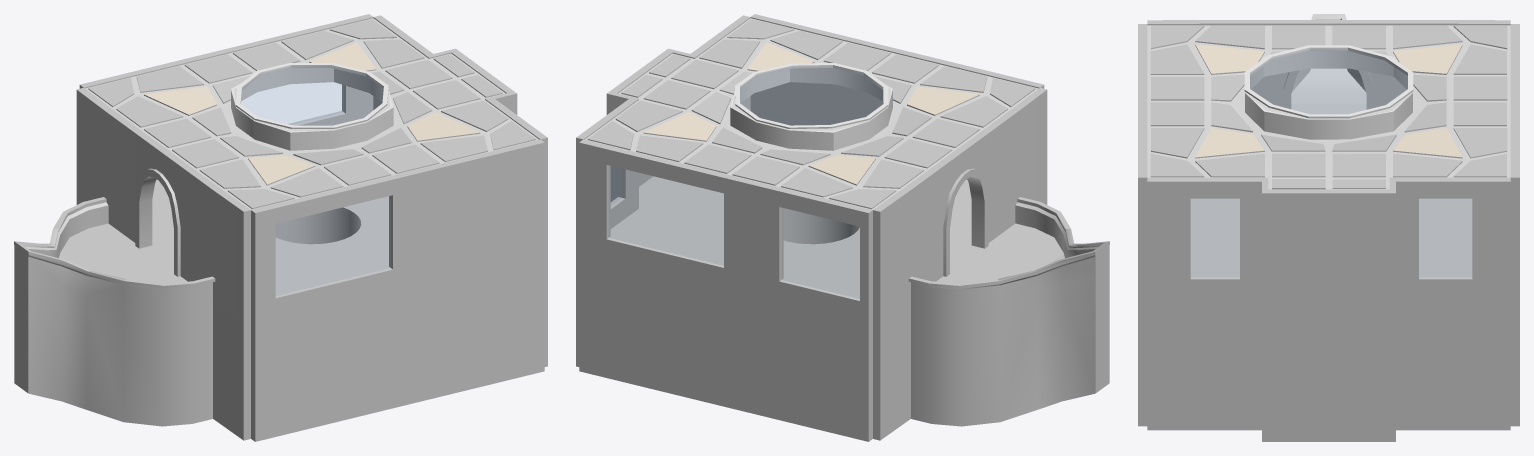
The model's file is AppGameRoomUpdated.fbx.
The picture shows the model from 3 angles, left to right: view 1: azimuth 30°, elevation 25°; view 2: azimuth 150°, elevation 25°; view 3: azimuth 270°, elevation 25°; orthographic projection. The views are drawn at different scales.
Visible parts, largest first — view 1: Room, Room.001, Roof; view 2: Room, Room.001, Roof; view 3: Room, Roof, Room.001.
Part boxes in pixels (bbox=[...]): Room: bbox=[14, 179, 547, 441]; Room.001: bbox=[76, 14, 547, 322]; Roof: bbox=[85, 18, 538, 209]; Room: bbox=[576, 176, 1109, 441]; Room.001: bbox=[576, 14, 1047, 322]; Roof: bbox=[585, 18, 1038, 209]; Room: bbox=[1138, 14, 1519, 441]; Roof: bbox=[1147, 25, 1510, 189]; Room.001: bbox=[1138, 20, 1519, 312].
Size of the model in its own units: 4778 by 2426 by 3124.
